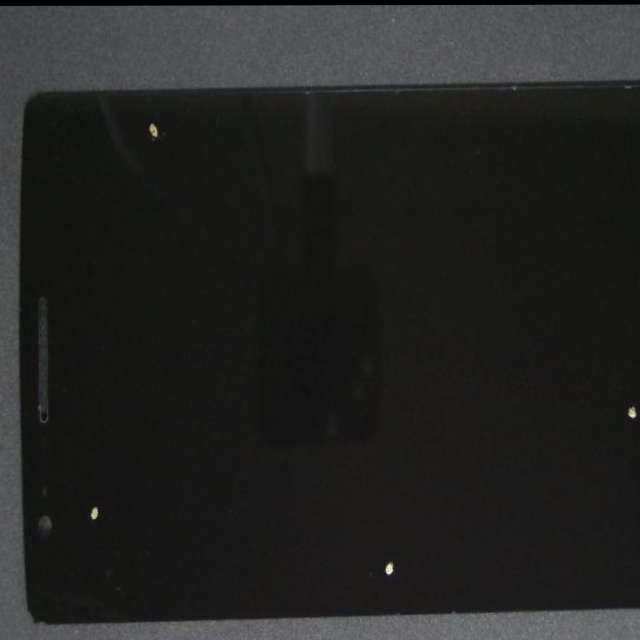stain: (173, 228, 567, 640), (329, 160, 640, 591), (332, 6, 640, 158), (36, 217, 146, 640), (60, 22, 230, 181)
